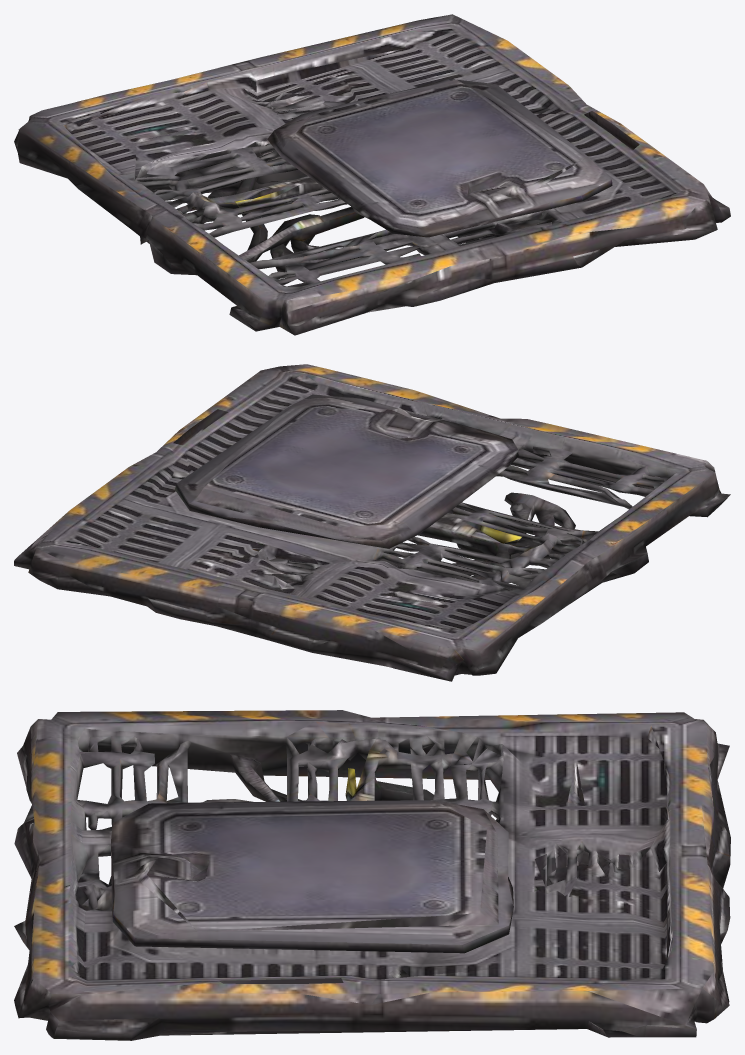
The model's file is sol_grille.glb.
3 renders of one model, top to bottom at view 1: azimuth 30°, elevation 25°; view 2: azimuth 150°, elevation 25°; view 3: azimuth 270°, elevation 25°, orthographic. The views are drawn at different scales.
Parts seen in each view (by area): view 1: tripo_node_c41d11c4-2d5b-4205-b45b-e0b75862e280; view 2: tripo_node_c41d11c4-2d5b-4205-b45b-e0b75862e280; view 3: tripo_node_c41d11c4-2d5b-4205-b45b-e0b75862e280.
Part boxes in pixels (<box>): tripo_node_c41d11c4-2d5b-4205-b45b-e0b75862e280: <box>14,14,730,335</box>; tripo_node_c41d11c4-2d5b-4205-b45b-e0b75862e280: <box>14,364,730,681</box>; tripo_node_c41d11c4-2d5b-4205-b45b-e0b75862e280: <box>14,710,730,1040</box>.
Bounding box in the file's own units: 0.9975 × 0.1252 × 0.9963.
Materials: 1 (1 with a texture image).
